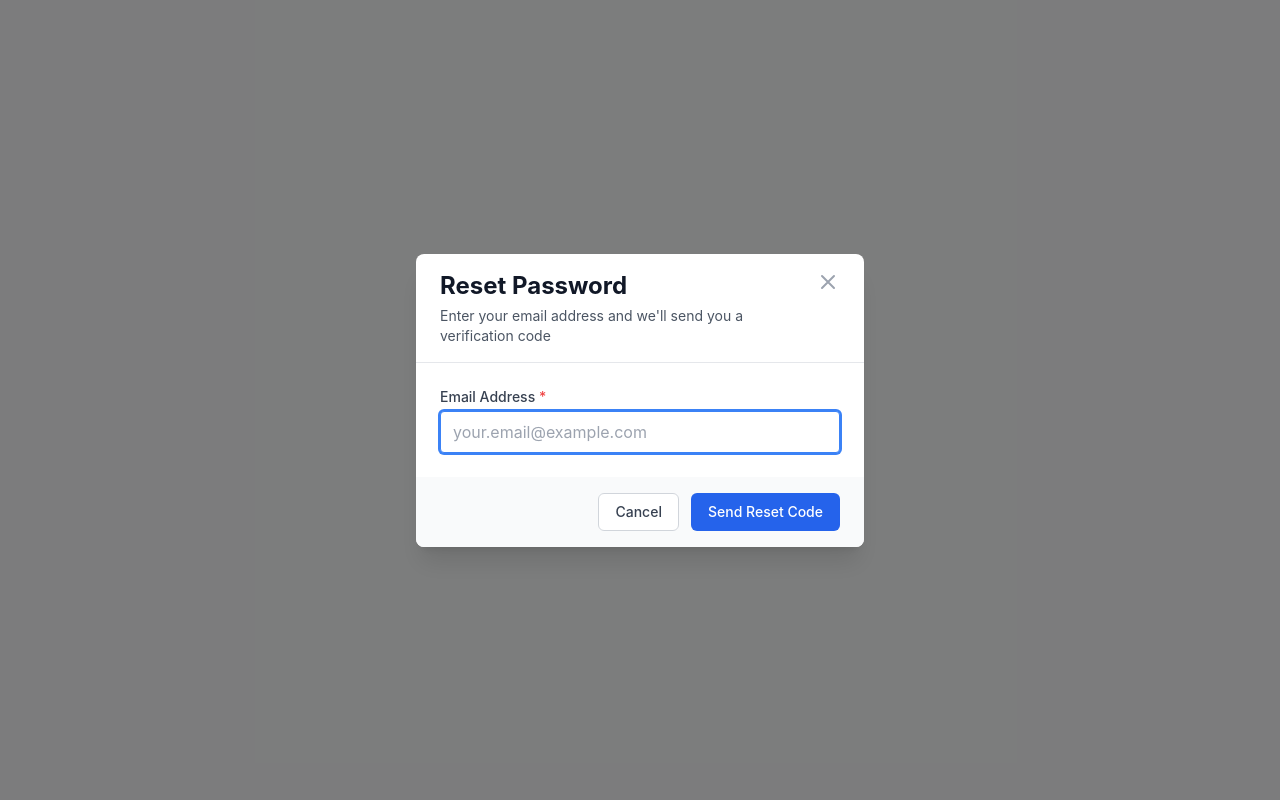
Test: PasswordResetForm › Step 1: Email Input › should clear validation error when user starts typing
Click the button "Send Reset Code". click: (766, 512)
box: x1=691 y1=492 x2=840 y2=530
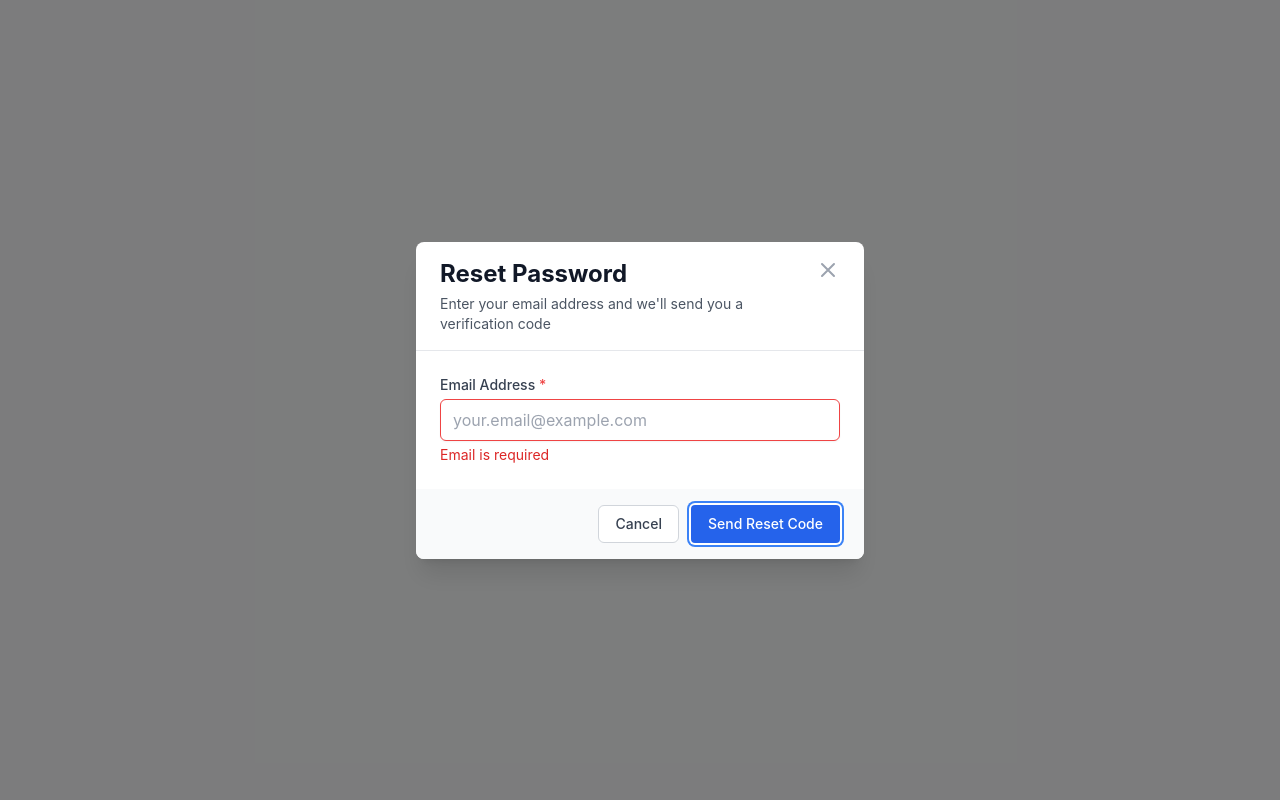
Expected: the text "Email is required" is shown, x1=440 y1=446 x2=549 y2=462
Type "test@example.com" into the field labelled "Email Address *". click: (640, 420)
box: x1=440 y1=398 x2=840 y2=440
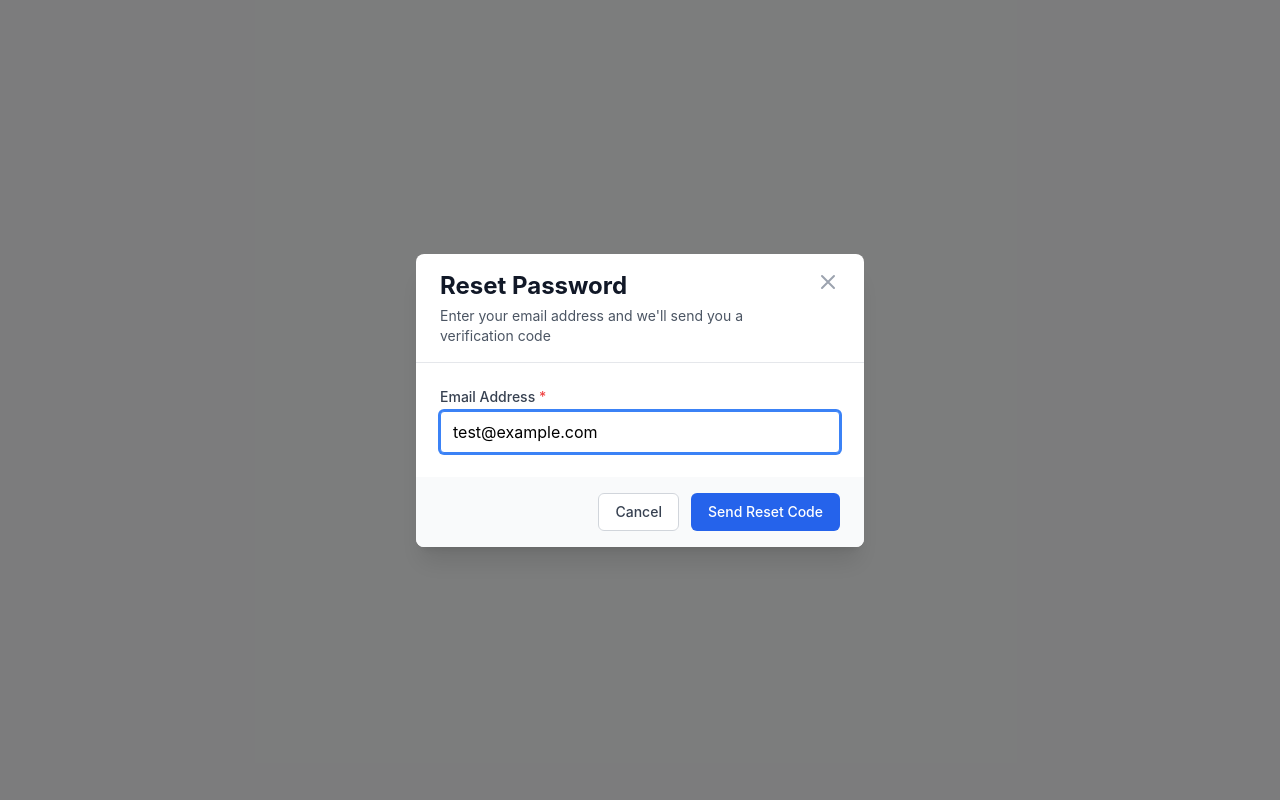
Expected: the text "Email is required" is gone
